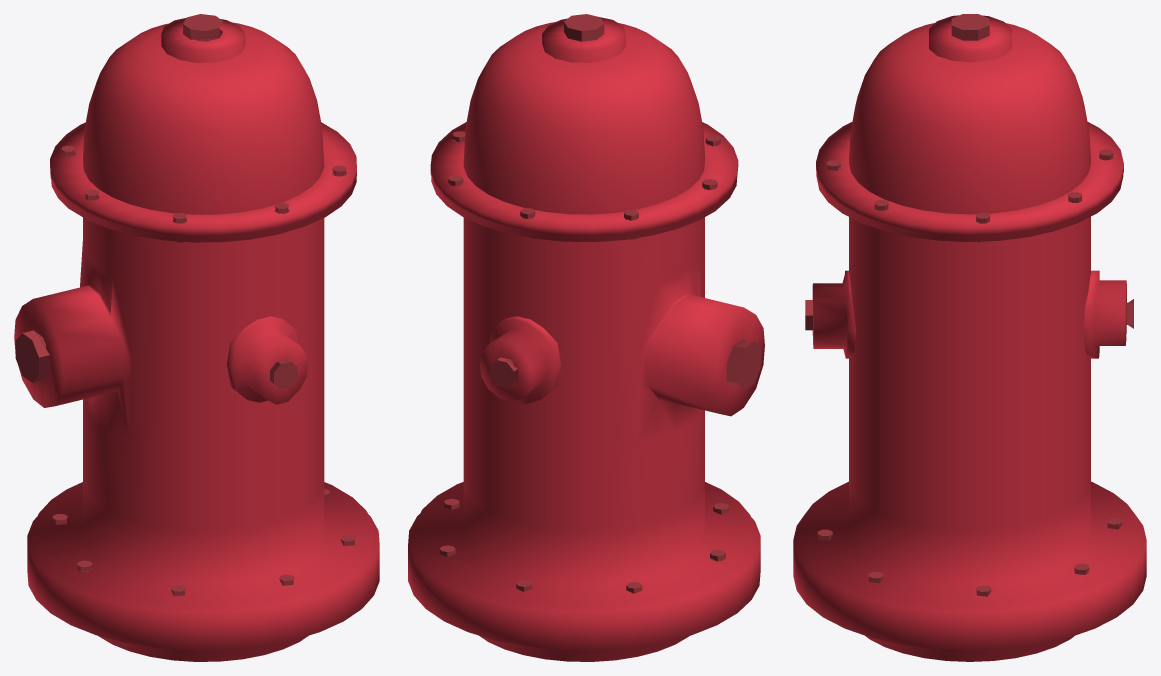
File: Fire Hydrant Ver 2.fbx
The picture shows the model from 3 angles, left to right: view 1: azimuth 30°, elevation 25°; view 2: azimuth 150°, elevation 25°; view 3: azimuth 270°, elevation 25°; orthographic projection.
Parts seen in each view (by area): view 1: Fire Hydrant; view 2: Fire Hydrant; view 3: Fire Hydrant.
Part boxes in pixels (<box>): Fire Hydrant: <box>14,14,379,661</box>; Fire Hydrant: <box>408,14,764,661</box>; Fire Hydrant: <box>793,14,1146,661</box>.
Size of the model in its own units: 309 by 292 by 537.
